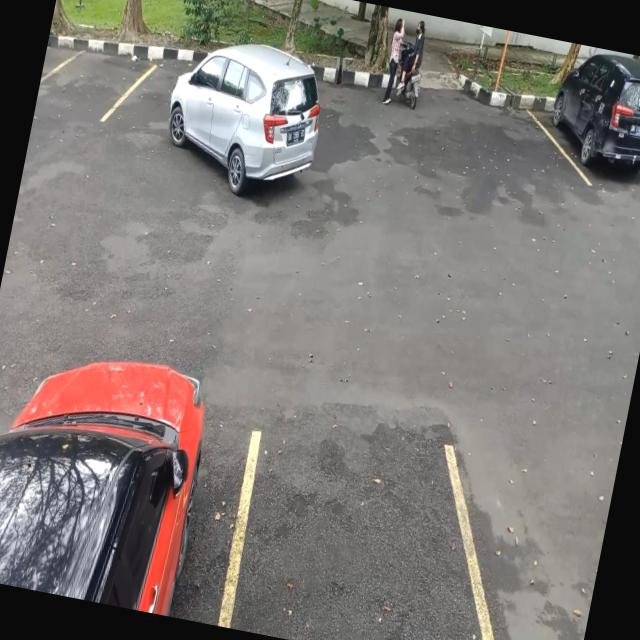car: (539, 58, 640, 197)
free: (214, 402, 498, 640), (35, 26, 154, 132)
